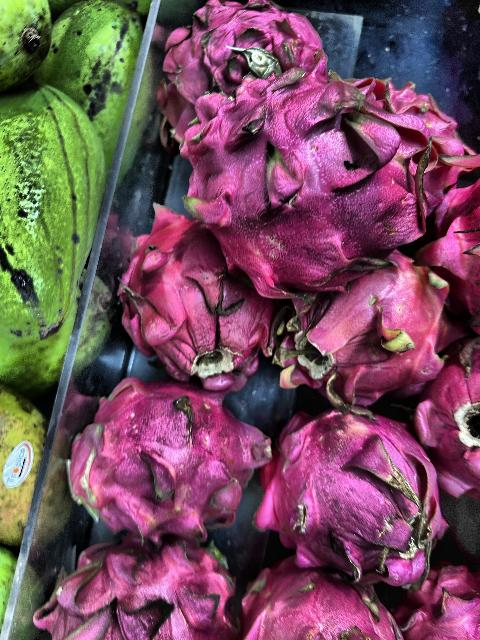buah-naga-matang: (177, 71, 428, 277), (264, 400, 448, 572), (76, 388, 266, 530), (125, 210, 271, 374), (286, 256, 448, 394), (31, 544, 235, 640), (164, 0, 342, 84), (242, 560, 396, 640), (414, 338, 480, 498), (400, 554, 480, 640)
